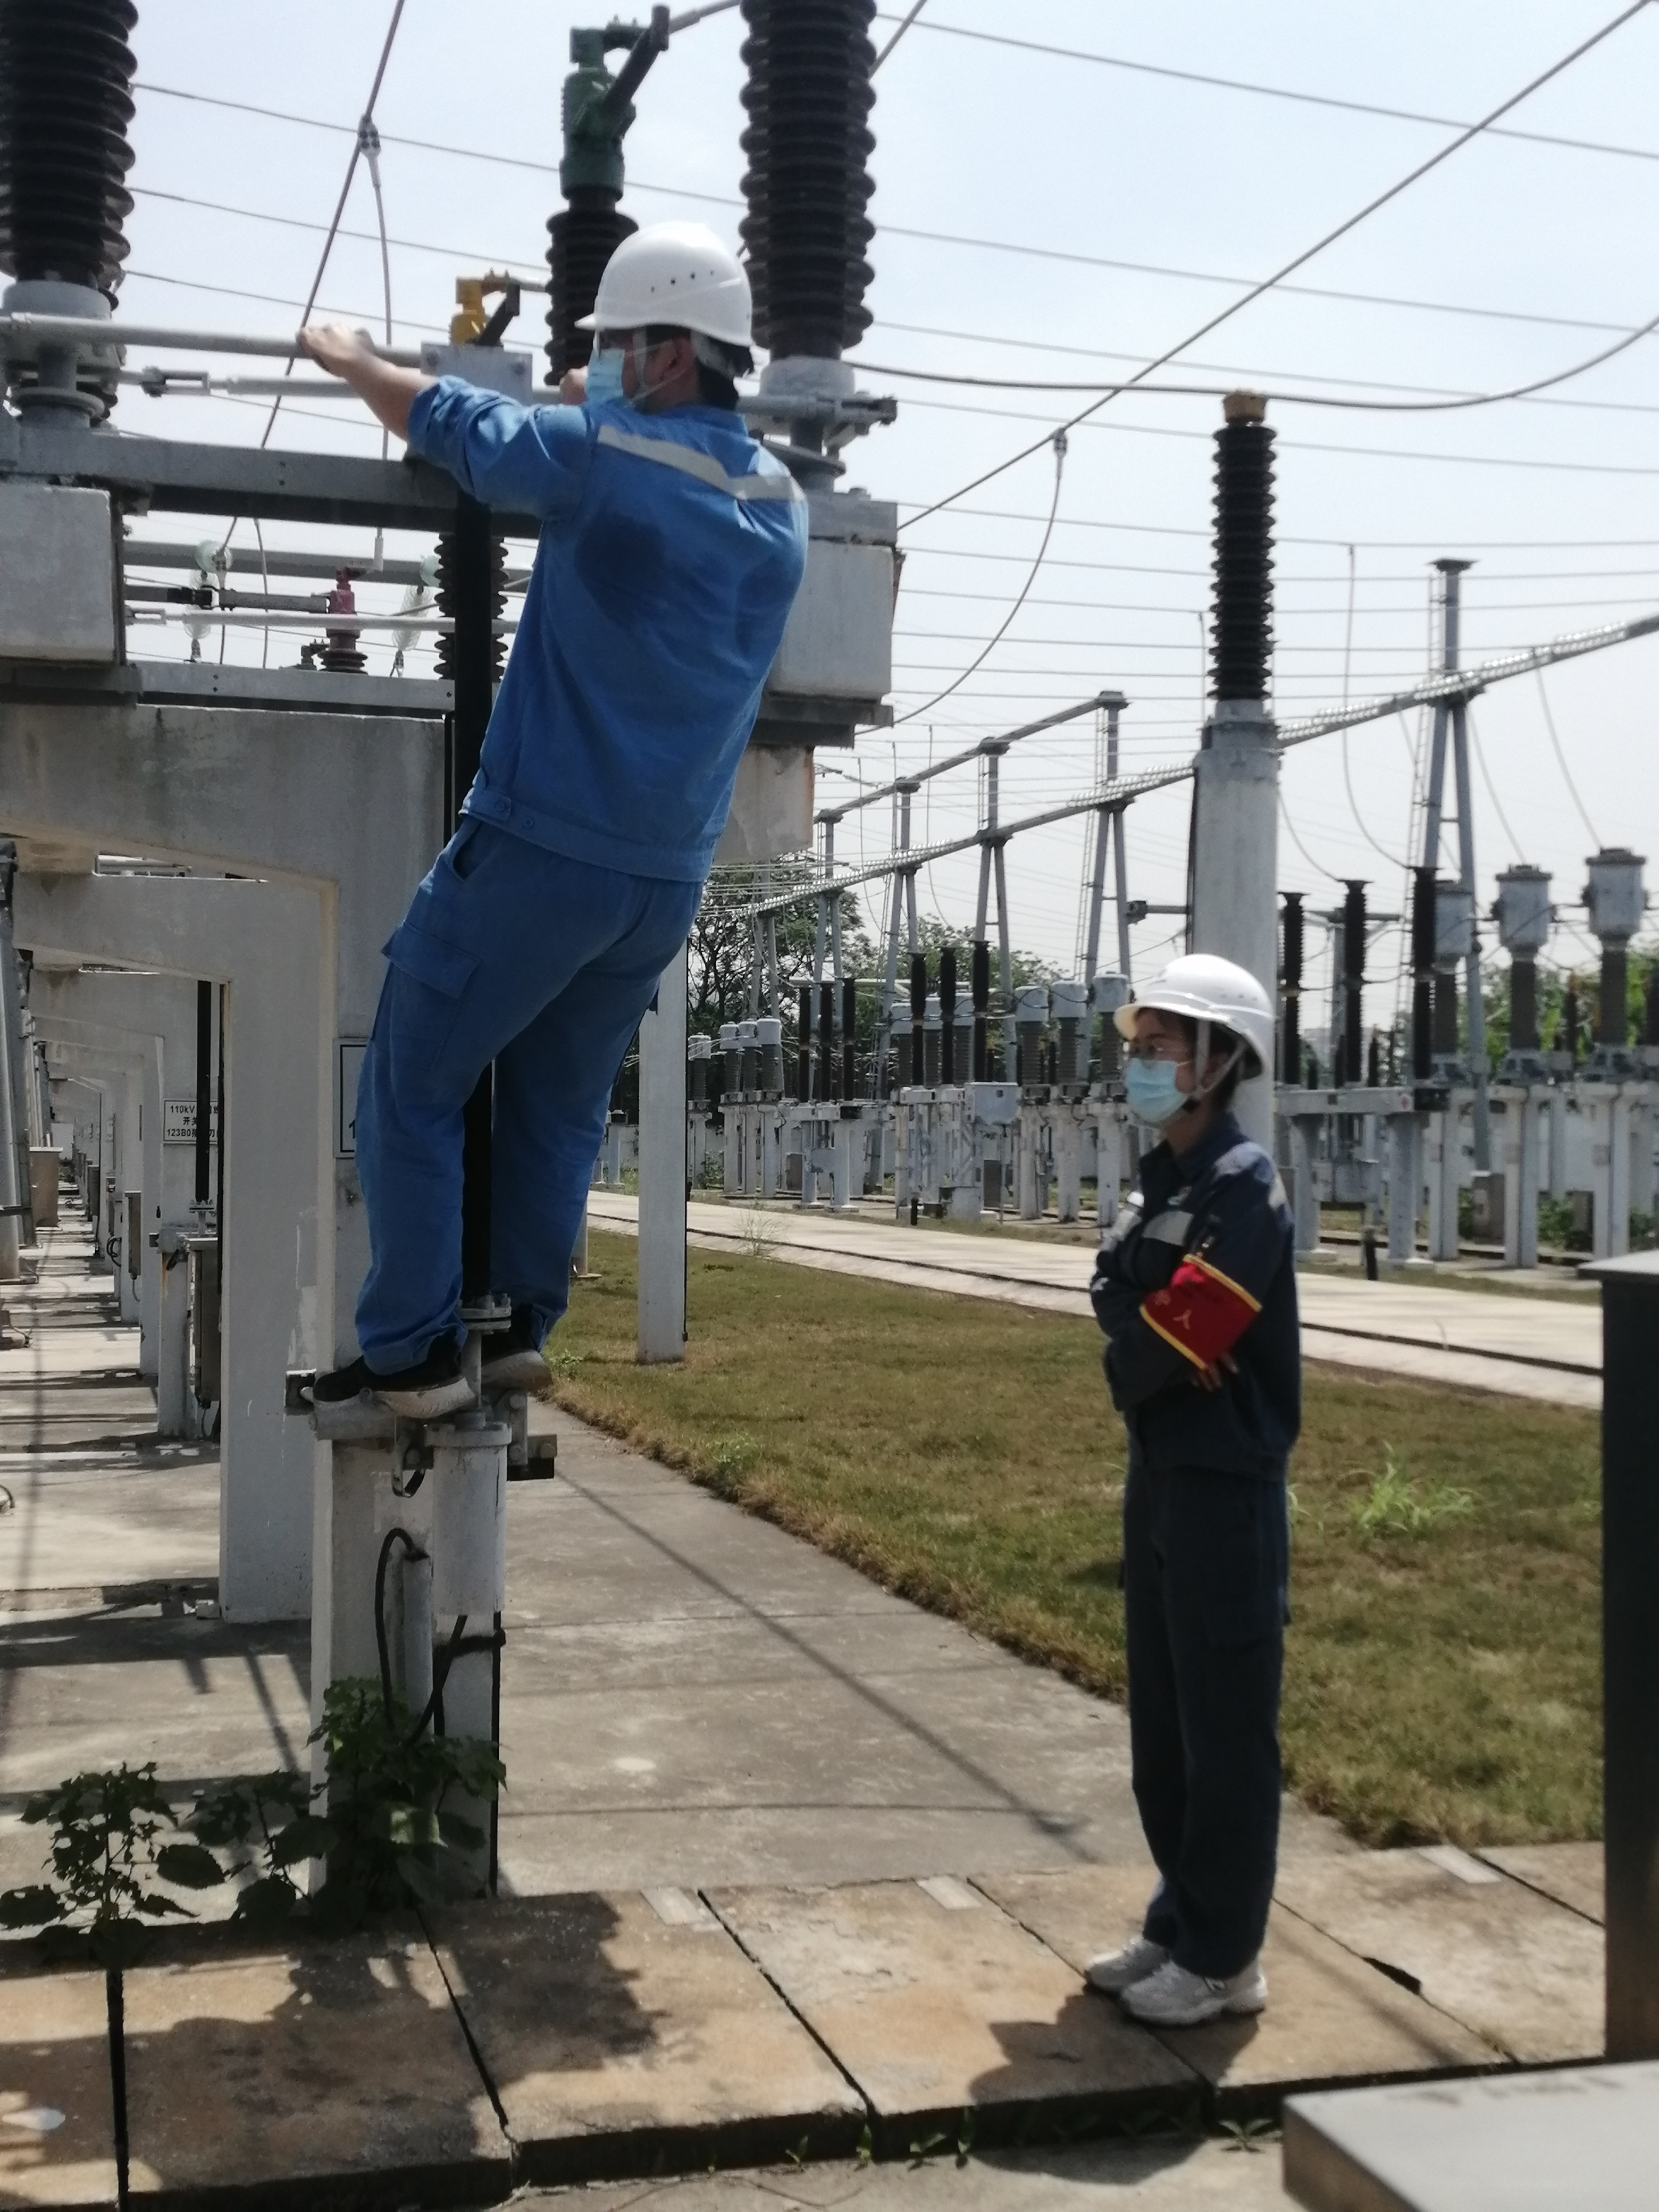badge: (1142, 1257, 1262, 1381)
downsuit: (343, 895, 713, 1362), (1121, 1481, 1294, 1980)
halt: (576, 228, 758, 410), (1118, 954, 1272, 1127)
hand: (296, 316, 380, 376)
inear: (629, 323, 704, 409)
person: (289, 225, 803, 1418), (1091, 954, 1305, 2021)
upsuit: (428, 397, 808, 870), (1093, 1134, 1297, 1467)
wrongtop: (296, 311, 467, 460)
